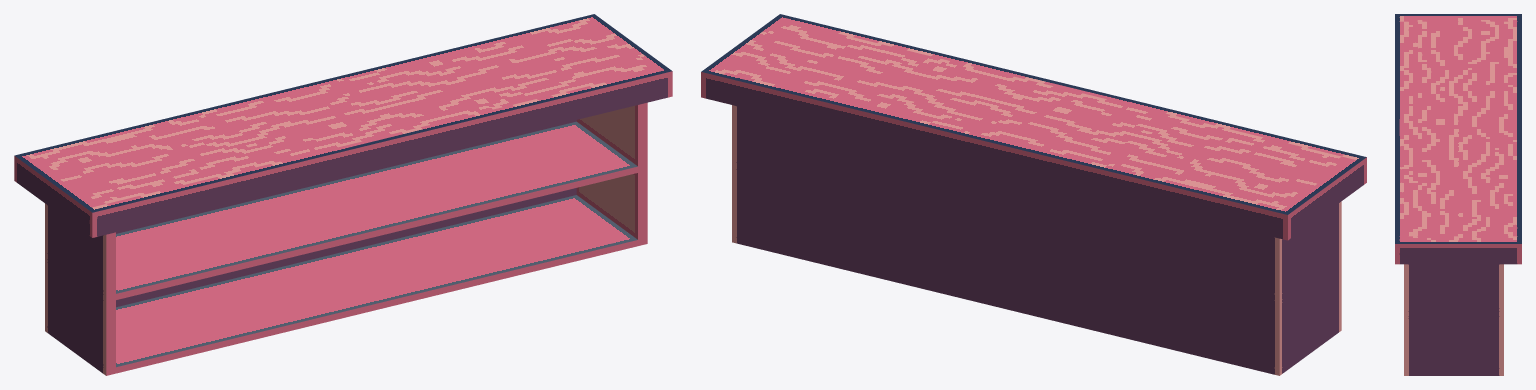
Rendered from bar_stand.gltf.
3 views of the same model, side by side, from view 1: azimuth 30°, elevation 25°; view 2: azimuth 150°, elevation 25°; view 3: azimuth 270°, elevation 25° (orthographic). The views are drawn at different scales.
Parts seen in each view (by area): view 1: cuboid; view 2: cuboid; view 3: cuboid.
Part boxes in pixels (x1=…): cuboid: x1=14, y1=14, x2=672, y2=375; cuboid: x1=701, y1=14, x2=1366, y2=375; cuboid: x1=1395, y1=14, x2=1521, y2=375.
Bounding box in the file's own units: 3.75 × 1.06 × 0.875.
1 material, 1 textured.
